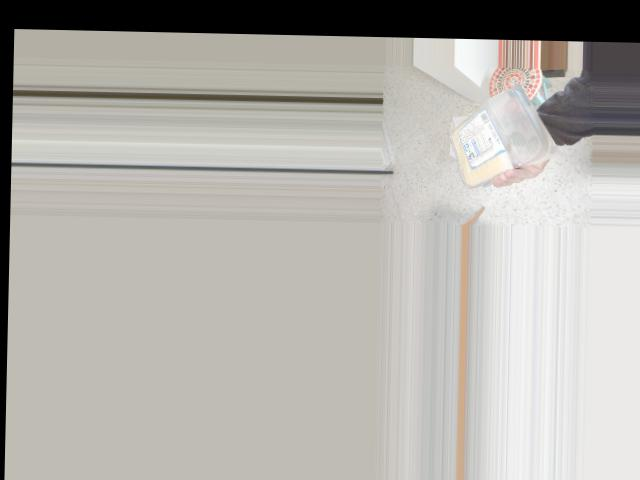cheese: (441, 81, 543, 177)
